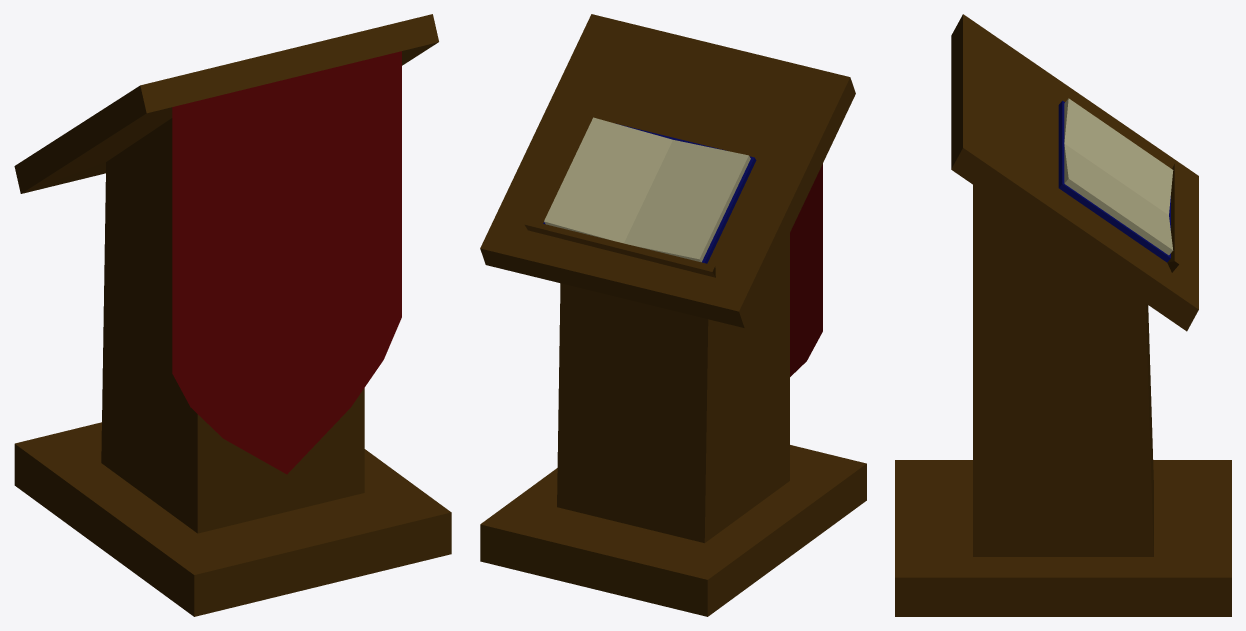
Rendered from Lecturer.fbx.
3 renders of one model, left to right at view 1: azimuth 30°, elevation 25°; view 2: azimuth 150°, elevation 25°; view 3: azimuth 270°, elevation 25°, orthographic. The views are drawn at different scales.
Parts seen in each view (by area): view 1: Lecturer; view 2: Lecturer; view 3: Lecturer.
Part boxes in pixels (bbox=[...]): Lecturer: bbox=[14, 14, 451, 616]; Lecturer: bbox=[480, 14, 866, 616]; Lecturer: bbox=[895, 14, 1231, 616].
Size of the model in its own units: 1.52 by 2.53 by 1.62.
